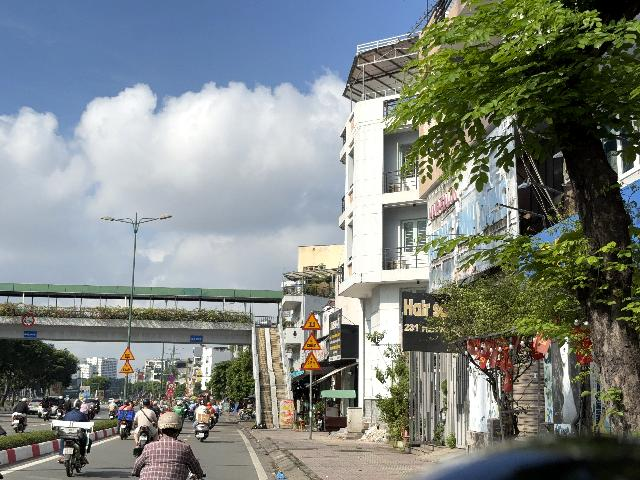chieu-cao-tinh-khong-thuc-te: (301, 352, 322, 371)
di-cham: (302, 332, 322, 350), (119, 360, 134, 373)
han-che-chieu-cao: (21, 313, 35, 327)
noi-giao-nhau-voi-duong-sat-co-rao-chan: (302, 312, 322, 330), (120, 346, 135, 360)
